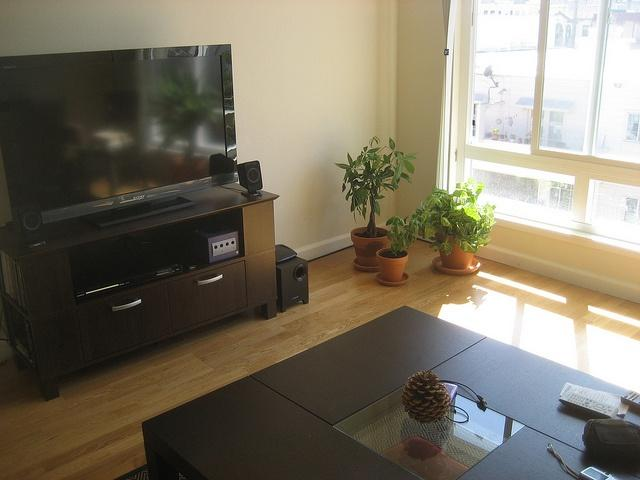AIO PC-Monitor-TV: (0, 41, 239, 229)
Meja: (134, 304, 639, 479)
